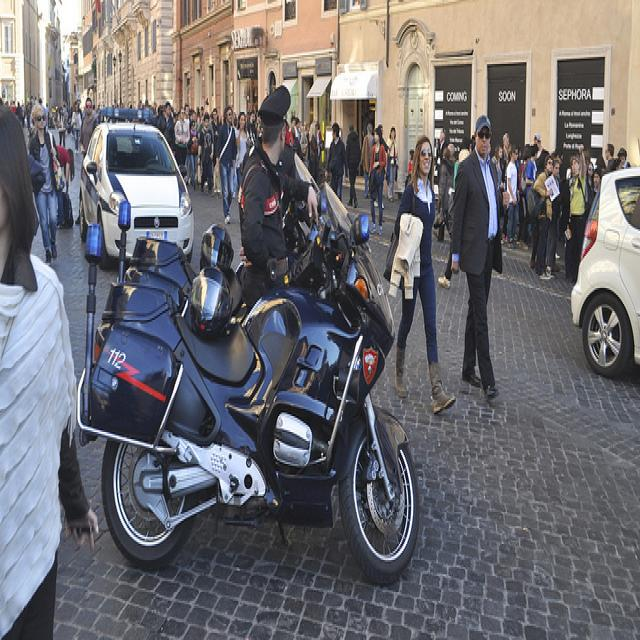motor: (81, 183, 418, 574)
